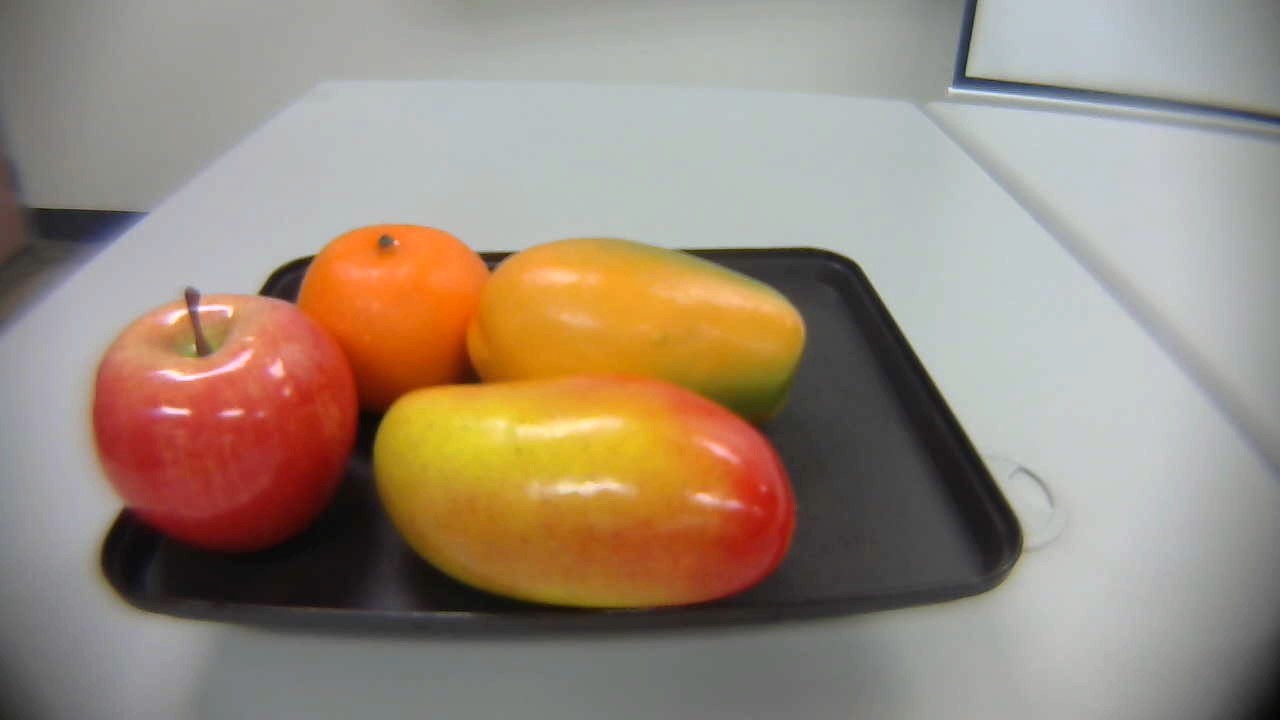orange: (278, 214, 500, 406)
papya: (460, 231, 833, 436)
red apple: (97, 289, 358, 558)
red mango: (355, 371, 797, 616)
